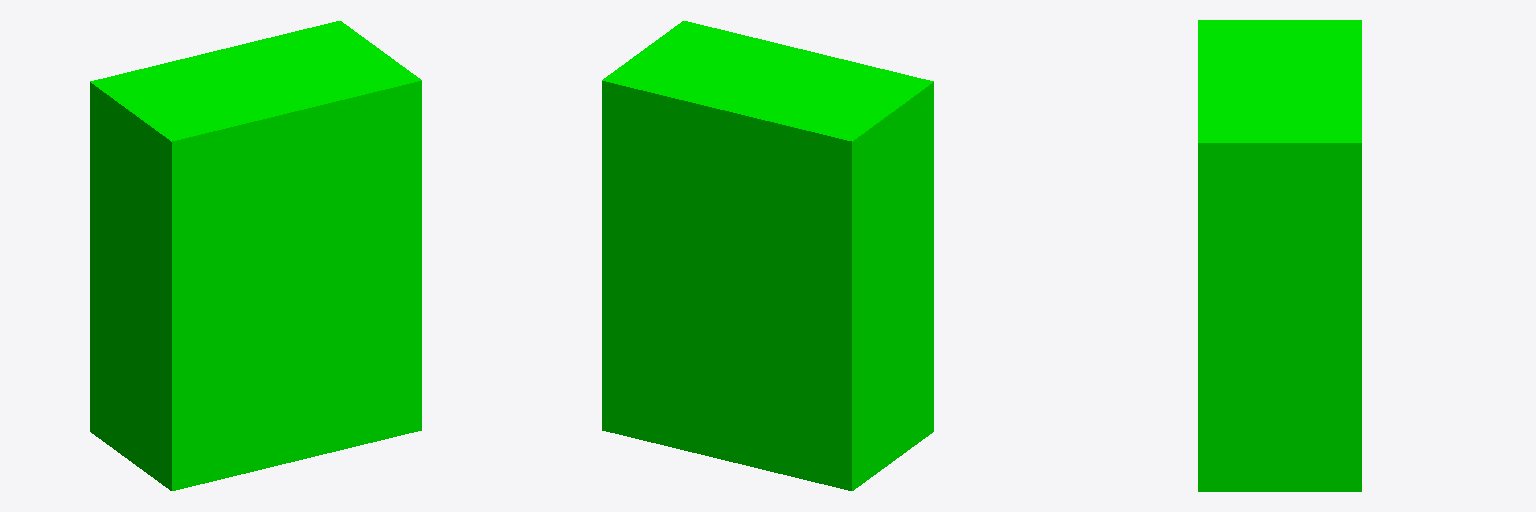
robot.urdf — woodenblock:
<?xml version="1.0"?>
<robot name="woodenblock">

  <link name="box">
    <inertial>
      <origin xyz="0 0 0" rpy="0 0 0"/>
      <mass value="0.0612"/>
      <inertia ixx="9.634e-06" ixy="0" ixz="0" iyy="1.275e-05" iyz="0" izz="6.064e-06"/>
    </inertial>

    <collision name="collision">
      <origin xyz="0 0 0" rpy="0 0 0"/>
      <geometry>
        <box size="0.03 0.017 0.04"/>
      </geometry>
    </collision>

    <visual name="visual">
      <origin xyz="0 0 0" rpy="0 0 0"/>
      <geometry>
        <box size="0.03 0.017 0.04"/>
      </geometry>
      <material name="green">
        <color rgba="0 1 0 1"/>
      </material>
    </visual>
  </link>

  <gazebo reference="box">
    <kp>50000</kp>
    <kd>15.0</kd>
    <mu1>30</mu1>
    <mu2>30</mu2>
    <restitution_coefficient>0.5</restitution_coefficient>
    <material>Gazebo/Green</material>
  </gazebo>

</robot>

--- Render facts (derived) ---
3 views of the same robot in one strip: view 1: azimuth 30°, elevation 25°; view 2: azimuth 150°, elevation 25°; view 3: azimuth 270°, elevation 25° (orthographic).
Model woodenblock with 1 links and 0 joints (none), rooted at box, posed every joint at zero.
Visible links, largest first — view 1: box; view 2: box; view 3: box.
Link boxes in pixels (bbox=[...]): box: bbox=[90, 21, 421, 490]; box: bbox=[602, 21, 933, 490]; box: bbox=[1198, 20, 1361, 491].
Bounding box of the posed robot: 0.03 × 0.017 × 0.04 m (x, y, z).
Geometry: primitives only (box / cylinder / sphere), no mesh files.
